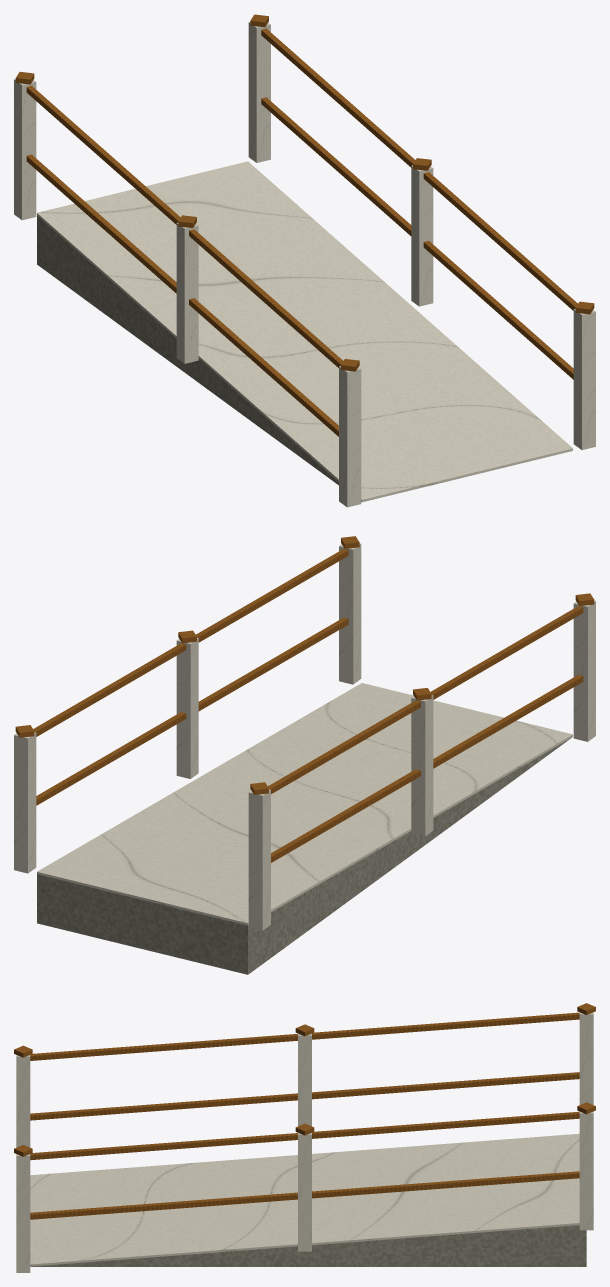
3 views of the same model, one above another, from view 1: azimuth 30°, elevation 25°; view 2: azimuth 150°, elevation 25°; view 3: azimuth 270°, elevation 25° (orthographic). The views are drawn at different scales.
Parts seen in each view (by area): view 1: LOD2__Separate 20mm marble ramp facing, LOD2__Stone ramp support, LOD2__Continuous bronze guardrail.003, LOD2__Continuous bronze guardrail.001, LOD2__Continuous bronze guardrail.002, LOD2__Continuous bronze guardrail, LOD2__Outside-route guard post, LOD2__Outside-route guard post.003, LOD2__Outside-route guard post.005, LOD2__Outside-route guard post.001, LOD2__Outside-route guard post.004, LOD2__Outside-route guard post.002; view 2: LOD2__Separate 20mm marble ramp facing, LOD2__Stone ramp support, LOD2__Continuous bronze guardrail.003, LOD2__Continuous bronze guardrail.001, LOD2__Continuous bronze guardrail.002, LOD2__Continuous bronze guardrail, LOD2__Outside-route guard post.005, LOD2__Outside-route guard post.002, LOD2__Outside-route guard post.003, LOD2__Outside-route guard post.001, LOD2__Outside-route guard post, LOD2__Outside-route guard post.004; view 3: LOD2__Separate 20mm marble ramp facing, LOD2__Stone ramp support, LOD2__Continuous bronze guardrail.002, LOD2__Continuous bronze guardrail, LOD2__Continuous bronze guardrail.001, LOD2__Continuous bronze guardrail.003, LOD2__Outside-route guard post.005, LOD2__Outside-route guard post.003, LOD2__Outside-route guard post.004, LOD2__Outside-route guard post, LOD2__Outside-route guard post.002, LOD2__Outside-route guard post.001.
Part boxes in pixels (x1,y1,x2,y2): LOD2__Separate 20mm marble ramp facing: (37, 161, 572, 502); LOD2__Stone ramp support: (37, 216, 338, 485); LOD2__Continuous bronze guardrail.003: (261, 28, 577, 310); LOD2__Continuous bronze guardrail.001: (26, 85, 342, 367); LOD2__Continuous bronze guardrail.002: (261, 97, 573, 379); LOD2__Continuous bronze guardrail: (26, 154, 338, 436); LOD2__Outside-route guard post: (339, 366, 361, 507); LOD2__Outside-route guard post.003: (573, 309, 595, 449); LOD2__Outside-route guard post.005: (248, 22, 270, 162); LOD2__Outside-route guard post.001: (176, 222, 198, 363); LOD2__Outside-route guard post.004: (411, 165, 433, 306); LOD2__Outside-route guard post.002: (14, 79, 36, 220); LOD2__Separate 20mm marble ramp facing: (37, 683, 572, 925); LOD2__Stone ramp support: (37, 738, 570, 974); LOD2__Continuous bronze guardrail.003: (33, 549, 348, 736); LOD2__Continuous bronze guardrail.001: (268, 606, 583, 793); LOD2__Continuous bronze guardrail.002: (36, 617, 348, 805); LOD2__Continuous bronze guardrail: (271, 675, 583, 862); LOD2__Outside-route guard post.005: (14, 732, 36, 873); LOD2__Outside-route guard post.002: (248, 789, 270, 930); LOD2__Outside-route guard post.003: (339, 543, 361, 684); LOD2__Outside-route guard post.001: (411, 695, 433, 836); LOD2__Outside-route guard post: (573, 600, 595, 741); LOD2__Outside-route guard post.004: (176, 638, 198, 778); LOD2__Separate 20mm marble ramp facing: (30, 1133, 579, 1266); LOD2__Stone ramp support: (30, 1225, 586, 1266); LOD2__Continuous bronze guardrail.002: (30, 1171, 579, 1219); LOD2__Continuous bronze guardrail: (30, 1072, 579, 1120); LOD2__Continuous bronze guardrail.001: (30, 1012, 579, 1060); LOD2__Continuous bronze guardrail.003: (30, 1111, 579, 1160); LOD2__Outside-route guard post.005: (579, 1111, 593, 1230); LOD2__Outside-route guard post.003: (16, 1154, 30, 1272); LOD2__Outside-route guard post.004: (298, 1133, 311, 1251); LOD2__Outside-route guard post: (16, 1055, 30, 1147); LOD2__Outside-route guard post.002: (579, 1012, 593, 1104); LOD2__Outside-route guard post.001: (298, 1033, 311, 1126).
Bounding box in the file's own units: 2.16 × 1.56 × 4.96.
Materials: 3 (3 with a texture image).
